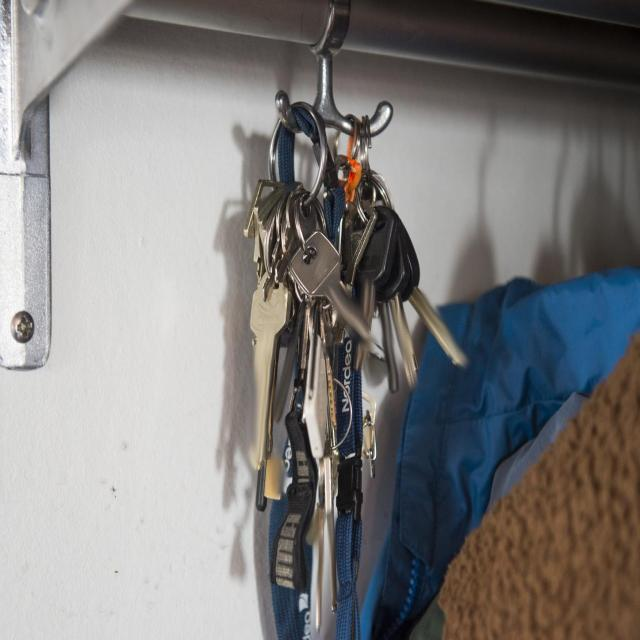Frontdoor keys: (293, 218, 373, 353), (245, 273, 287, 468)
